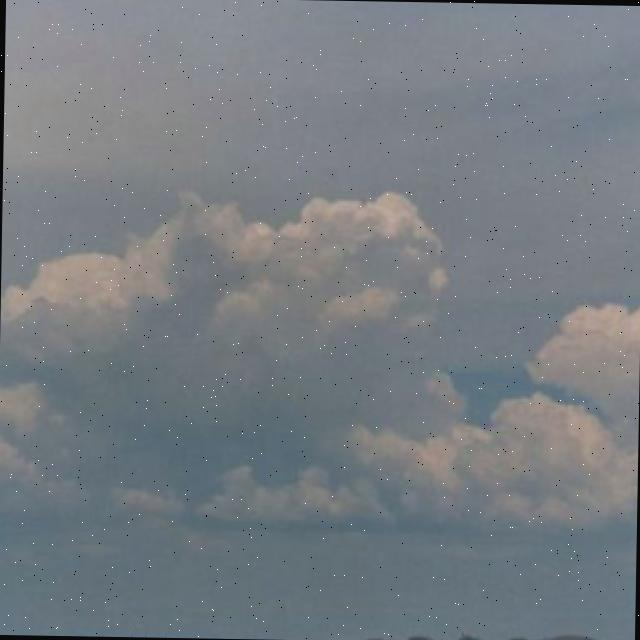Cs: (1, 180, 638, 563)
